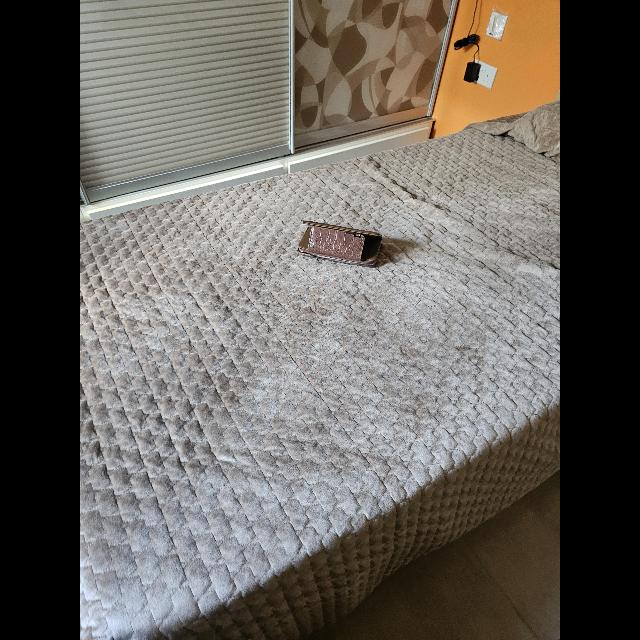Wallet: (297, 220, 383, 266)
